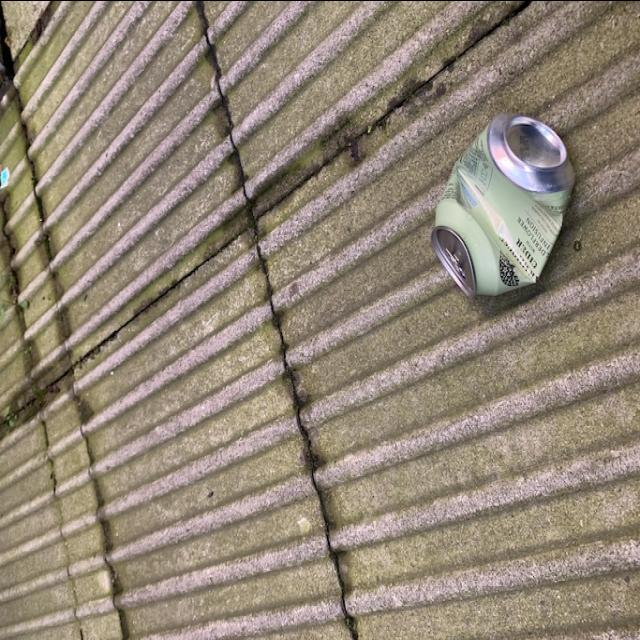litter: (431, 104, 579, 312)
